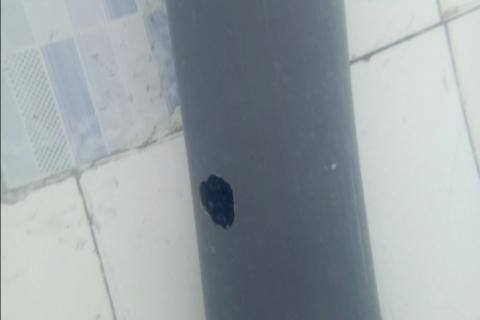kebocoran: (199, 175, 236, 229)
